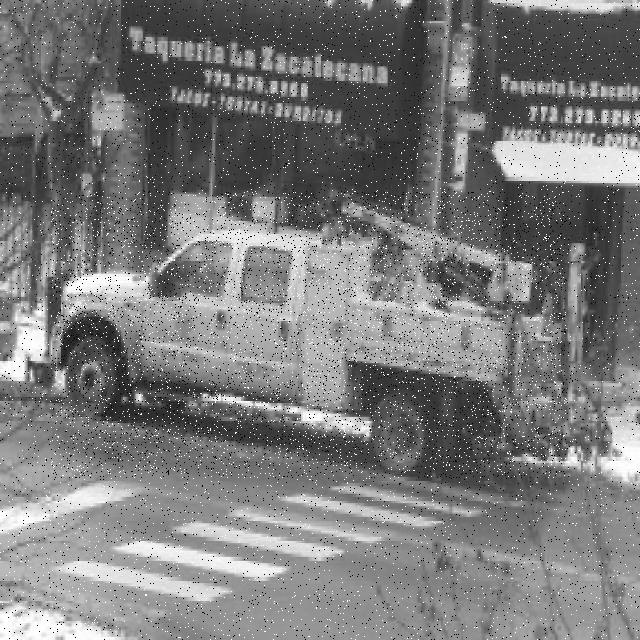Pickup- Utility: (51, 191, 566, 478)
